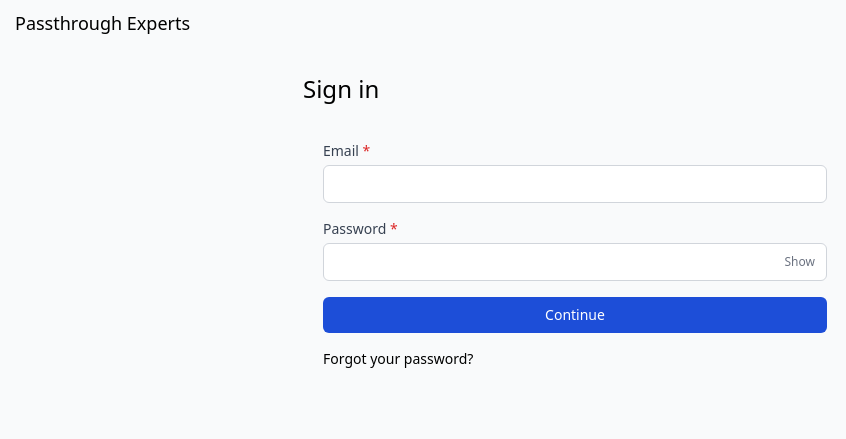
Test case: session ended by the server › B3 a wrong password (401 without the AUTH code) is just a wrong password: no "session ended"
The width and height of the screenshot is (846, 439).
Type "a@b.co" into the field labelled "Email *" at (575, 184), box left=323, top=165, right=827, bottom=203
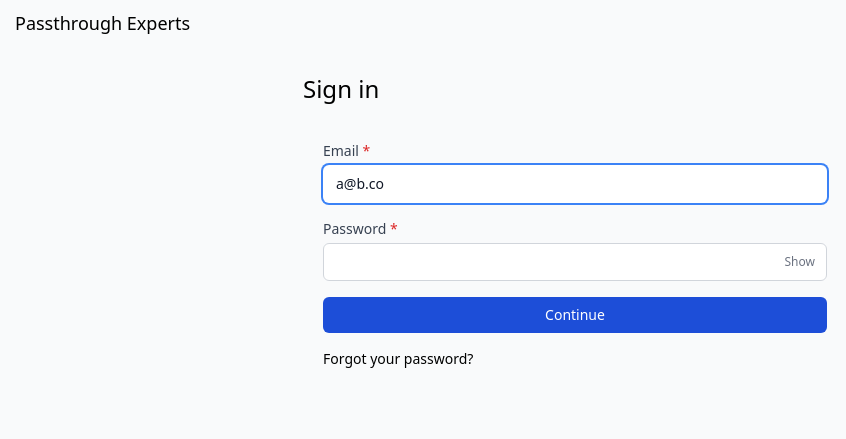
Type "pw" into the password field labelled "Password *" at (575, 262), box left=323, top=243, right=827, bottom=281
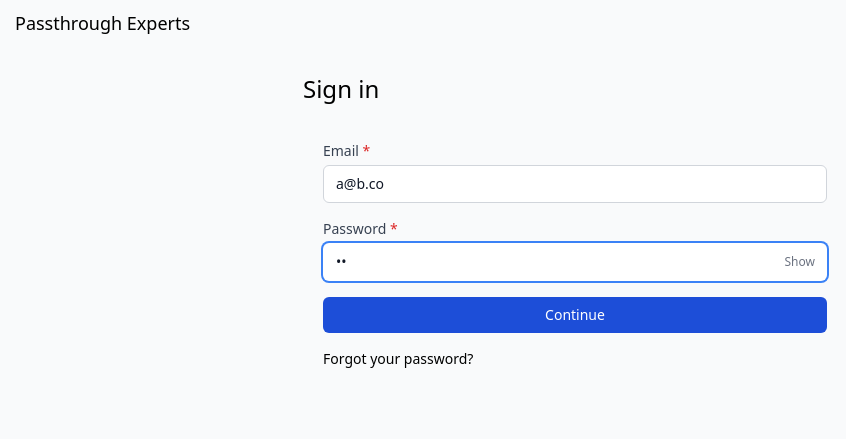
Click the button "Continue" at (575, 315), box left=323, top=297, right=827, bottom=333
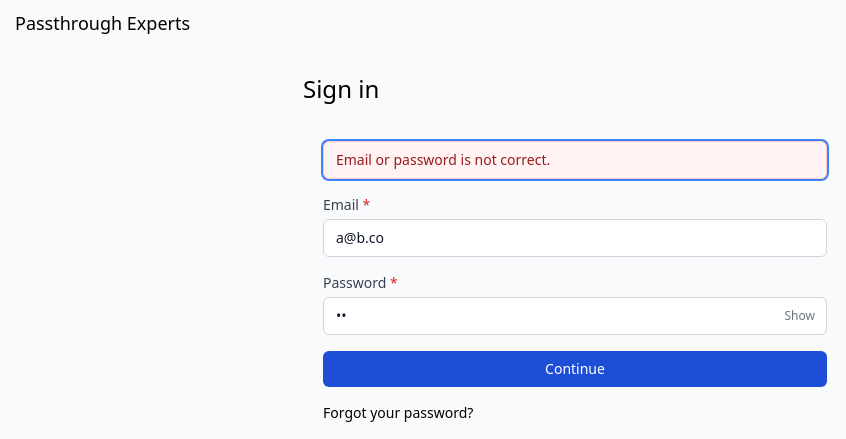
Result: the text "Email or password is not correct." is shown at left=323, top=141, right=827, bottom=179
